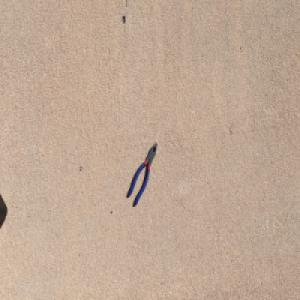Pliers: (127, 140, 158, 206)
